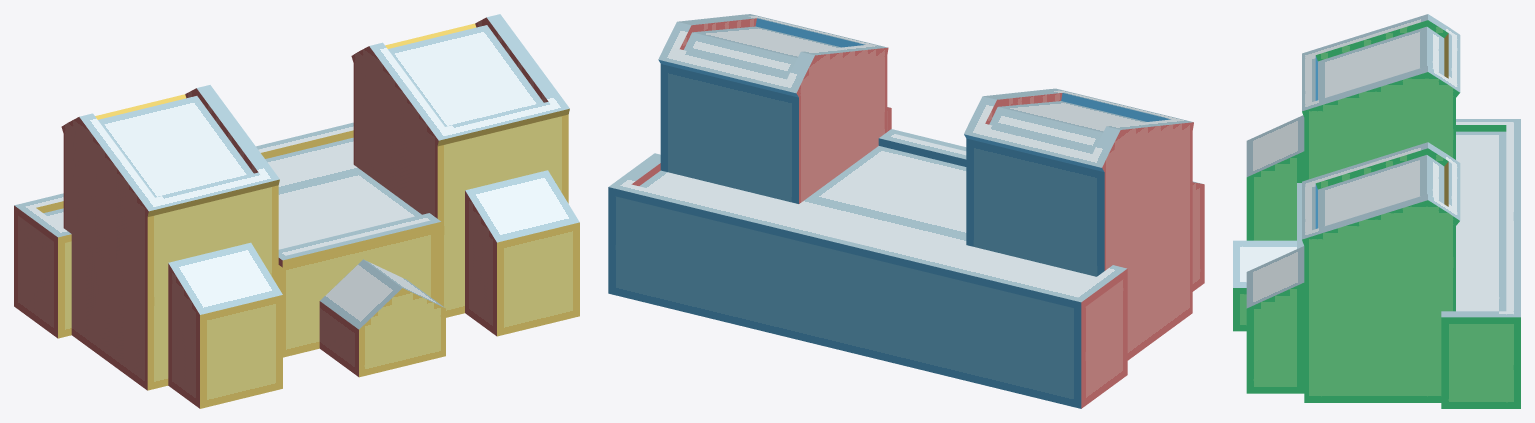
File: main_plant_building.gltf
The picture shows the model from 3 angles, left to right: view 1: azimuth 30°, elevation 25°; view 2: azimuth 150°, elevation 25°; view 3: azimuth 270°, elevation 25°; orthographic projection. The views are drawn at different scales.
Parts seen in each view (by area): view 1: cuboid; view 2: cuboid; view 3: cuboid.
Boxes of the visible parts, x1=… form: cuboid: x1=14, y1=14, x2=579, y2=408; cuboid: x1=608, y1=14, x2=1204, y2=408; cuboid: x1=1233, y1=14, x2=1520, y2=408.
Size of the model in its own units: 4.06 by 1.94 by 2.49.
1 material, 1 textured.
